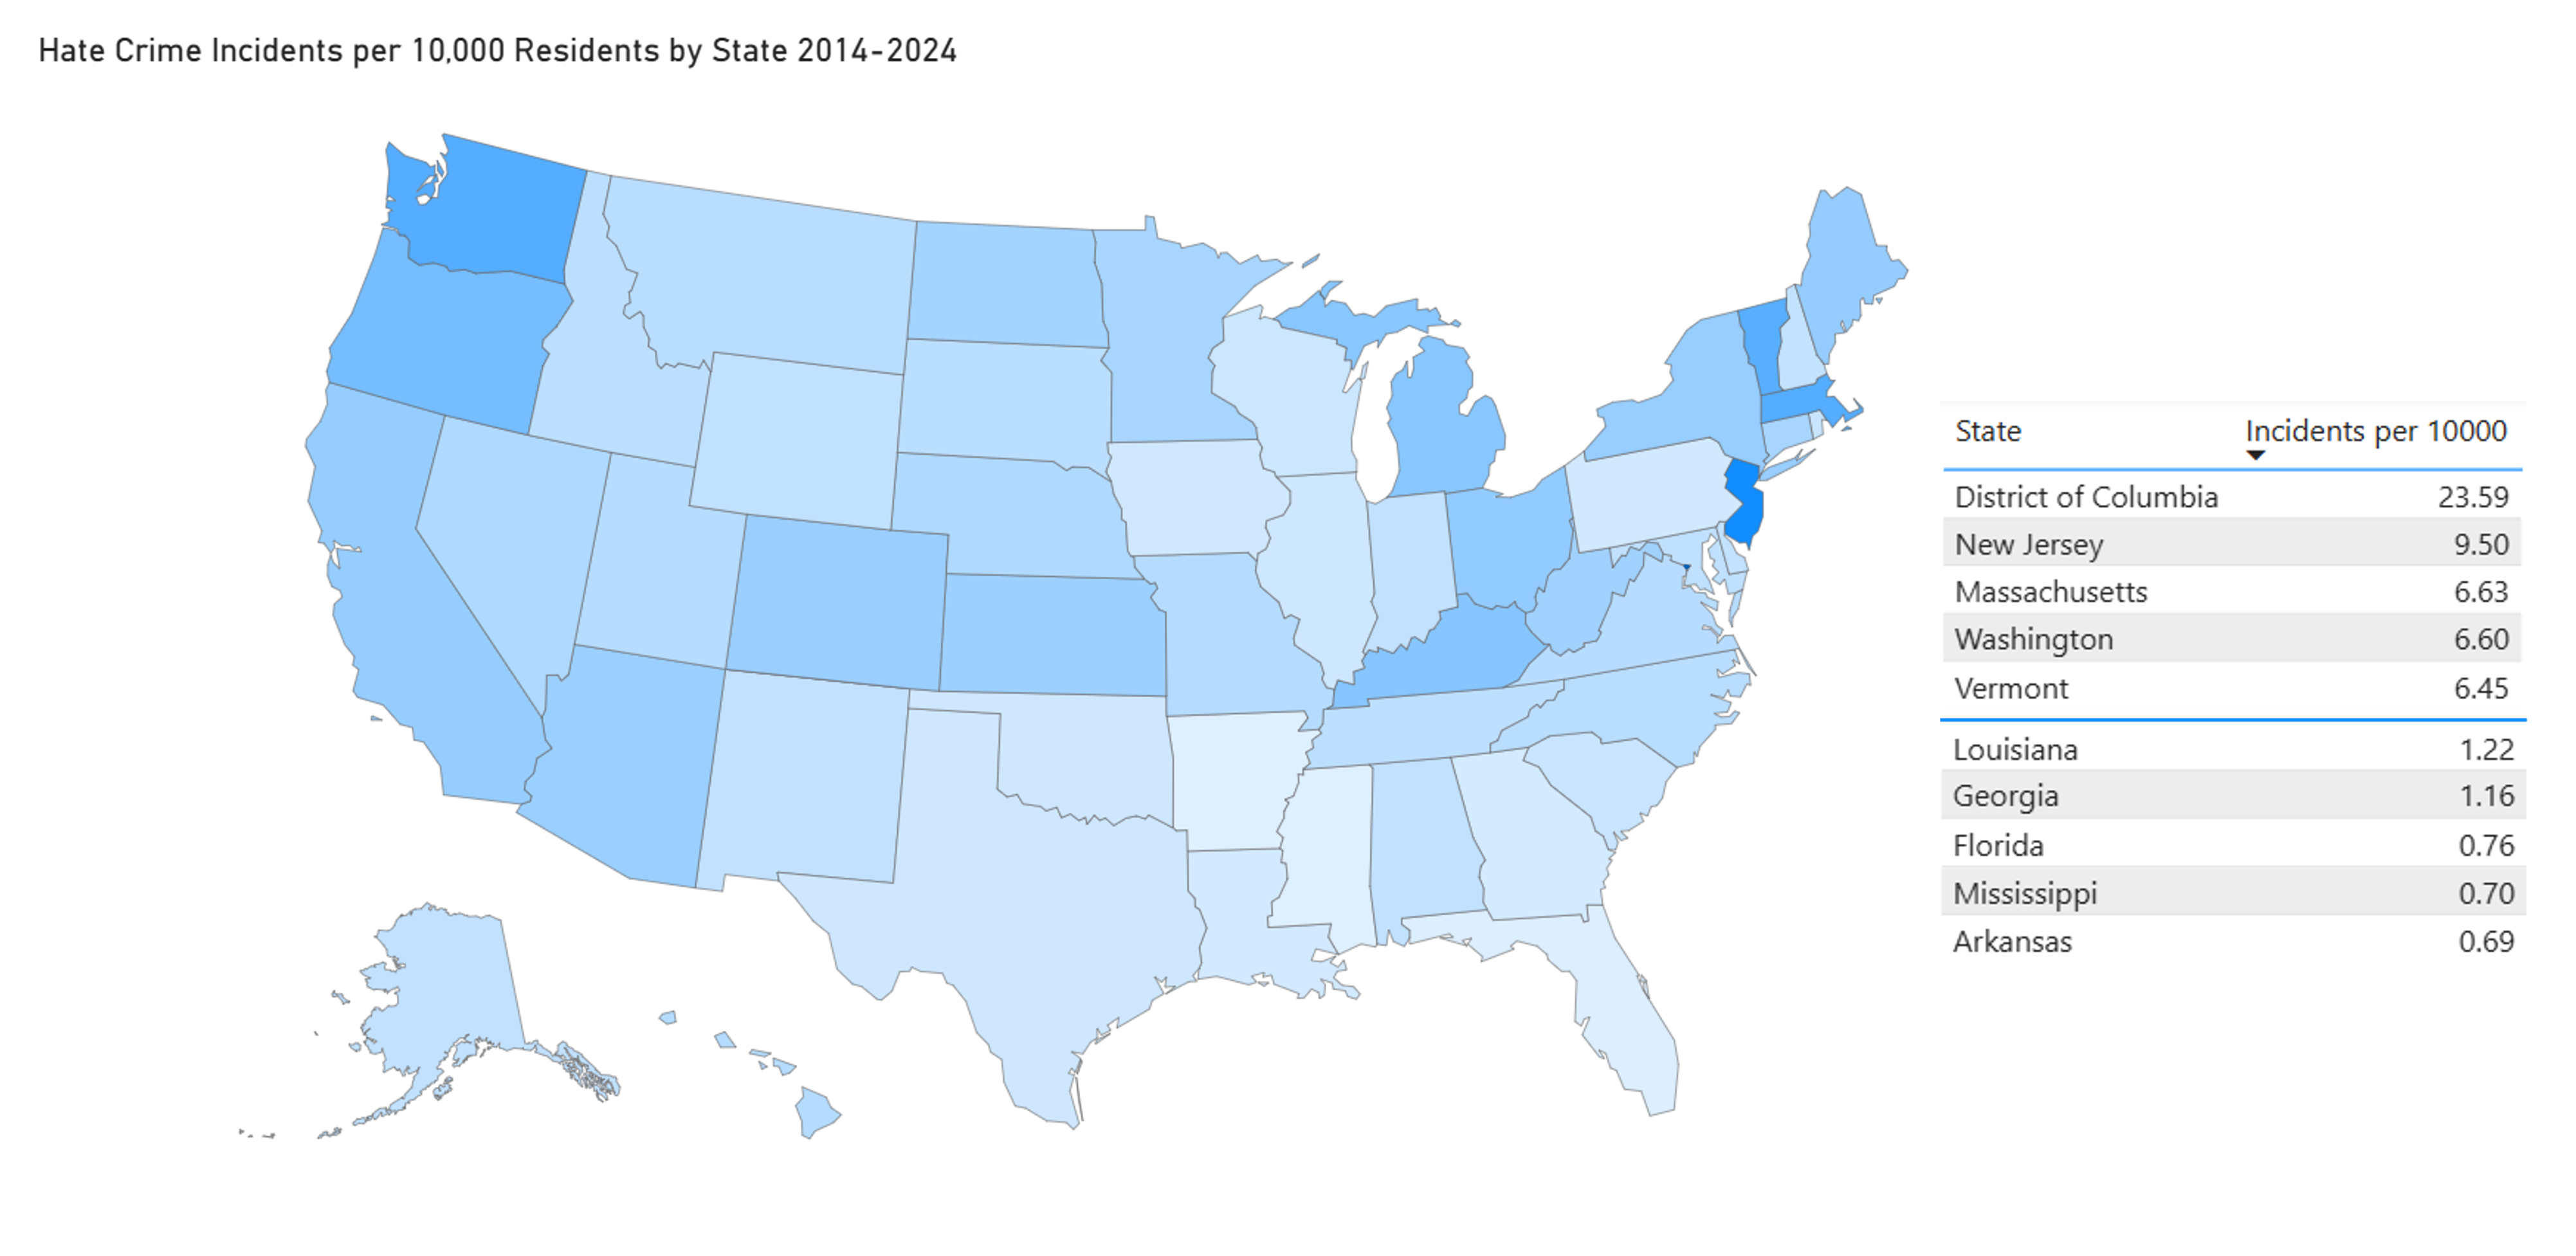

Layout of this report page (visuals, bound fields, positions):
{"tool":"powerbi","page":{"name":"Total Map","canvas":[1280,720],"ordinal":3},"visuals":[{"type":"shapeMap","title":"Hate Crime Incidents per 10,000 Residents by State 2015-2024","fields":{"Category":["State Incidents per Capita.State"],"Value":["Sum(State Incidents per Capita.Incidents per 10000)"]},"box":[32.1,17,1218.9,684.1],"z":0}]}

Visuals, with their boxes on the page's 1280x720 design canvas (x1, y1, x2, y2). These are canvas units, not pixel positions in the 2576x1256 screenshot, which may show the page scaled, cropped or inside an application window:
"Hate Crime Incidents per 10,000 Residents by State 2015-2024" shapeMap: region(32, 17, 1251, 701)
